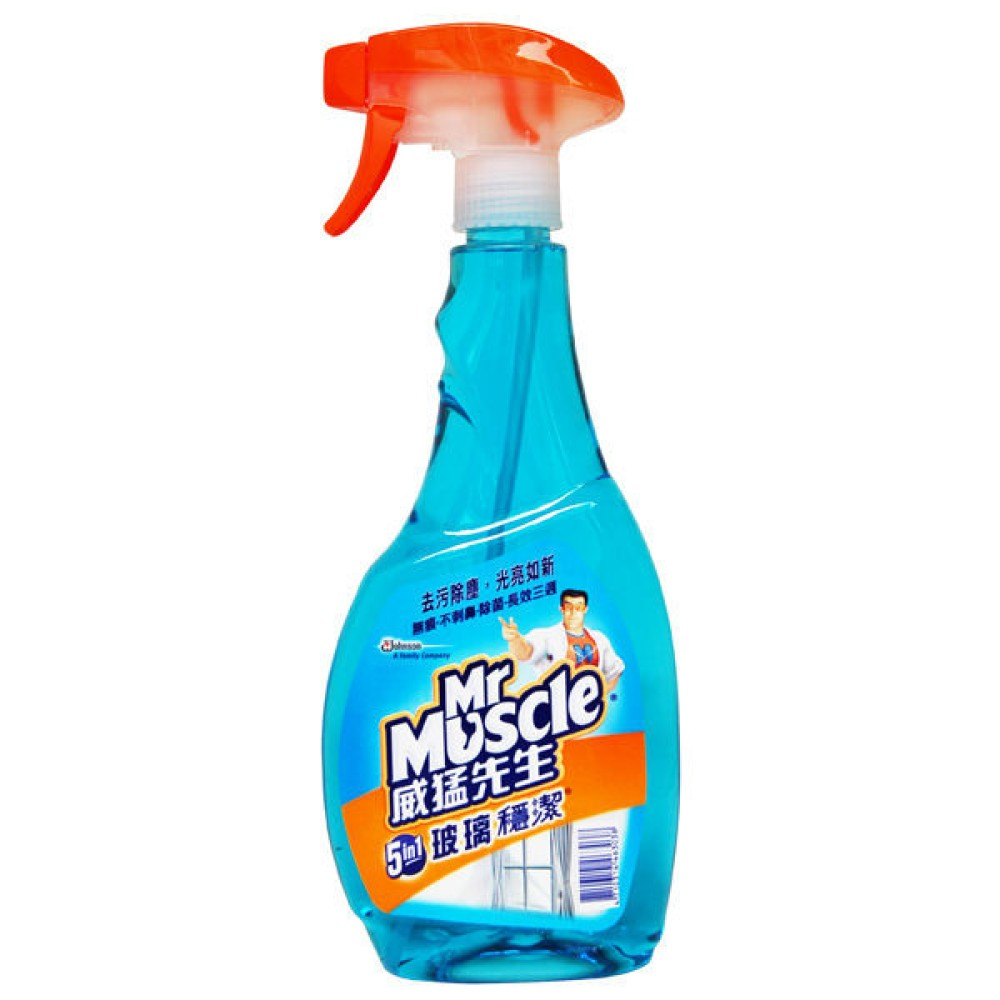cleaner: (315, 22, 700, 986)
